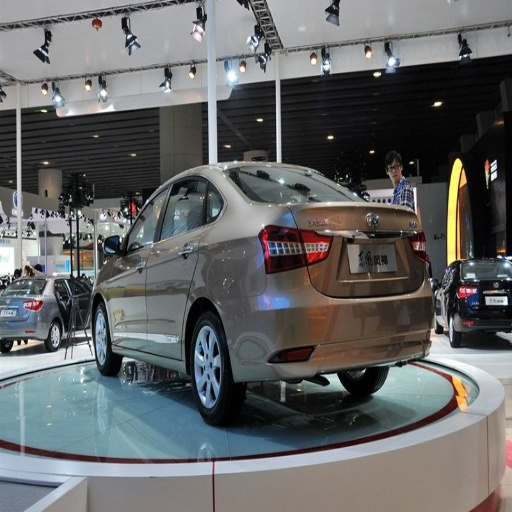back_bumper: (224, 268, 435, 384)
back_glass: (232, 168, 345, 201)
back_left_door: (149, 172, 210, 352)
tailgate: (268, 200, 423, 297)
trunk: (435, 425, 484, 491)
